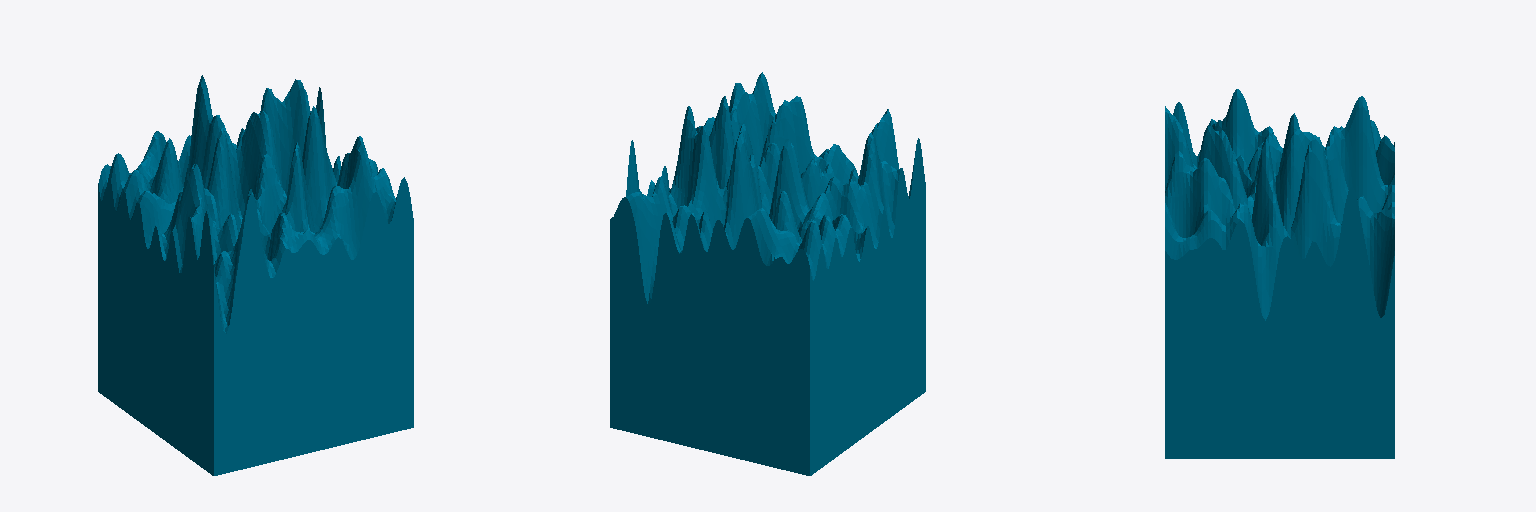
3 views of the same model, side by side, from view 1: azimuth 30°, elevation 25°; view 2: azimuth 150°, elevation 25°; view 3: azimuth 270°, elevation 25° (orthographic).
Parts seen in each view (by area): view 1: Sea_(Laut); view 2: Sea_(Laut); view 3: Sea_(Laut).
Part boxes in pixels (bbox=[...]): Sea_(Laut): bbox=[98, 75, 413, 475]; Sea_(Laut): bbox=[610, 72, 925, 475]; Sea_(Laut): bbox=[1165, 89, 1394, 458].
Size of the model in its own units: 2 by 2.94 by 2.